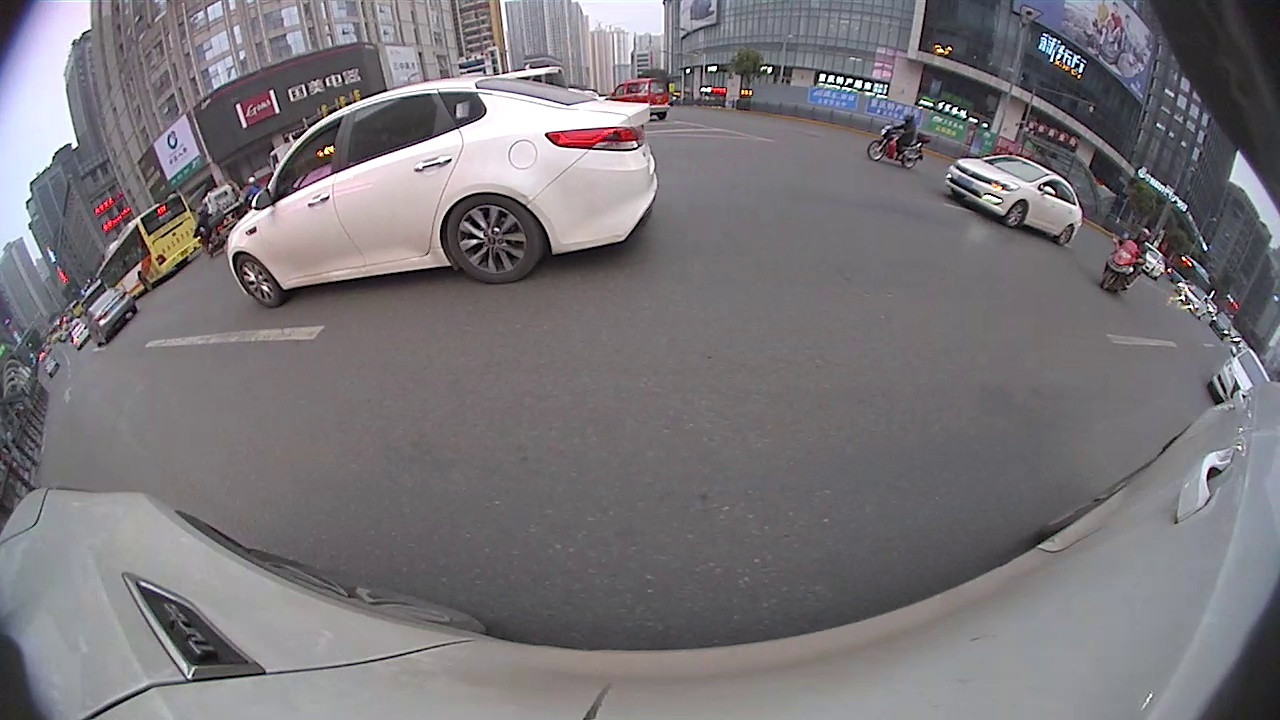bus: (100, 191, 200, 304)
car: (223, 74, 653, 308), (947, 148, 1087, 244), (1212, 350, 1273, 409), (80, 289, 139, 347), (868, 118, 929, 172)
front: (232, 251, 285, 309), (1003, 198, 1029, 230), (866, 137, 887, 164)
rear: (444, 192, 544, 287), (1056, 223, 1076, 247), (899, 154, 919, 169)
rider: (1102, 223, 1149, 299), (601, 81, 674, 128)
